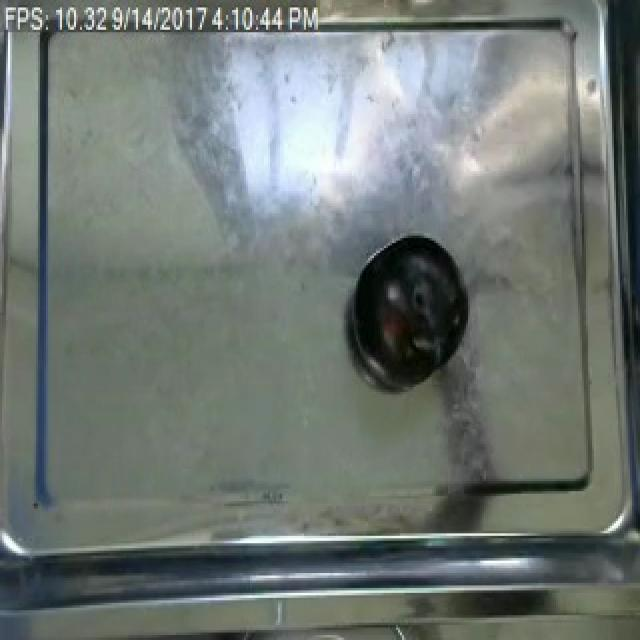Fruit: (348, 230, 472, 380)
